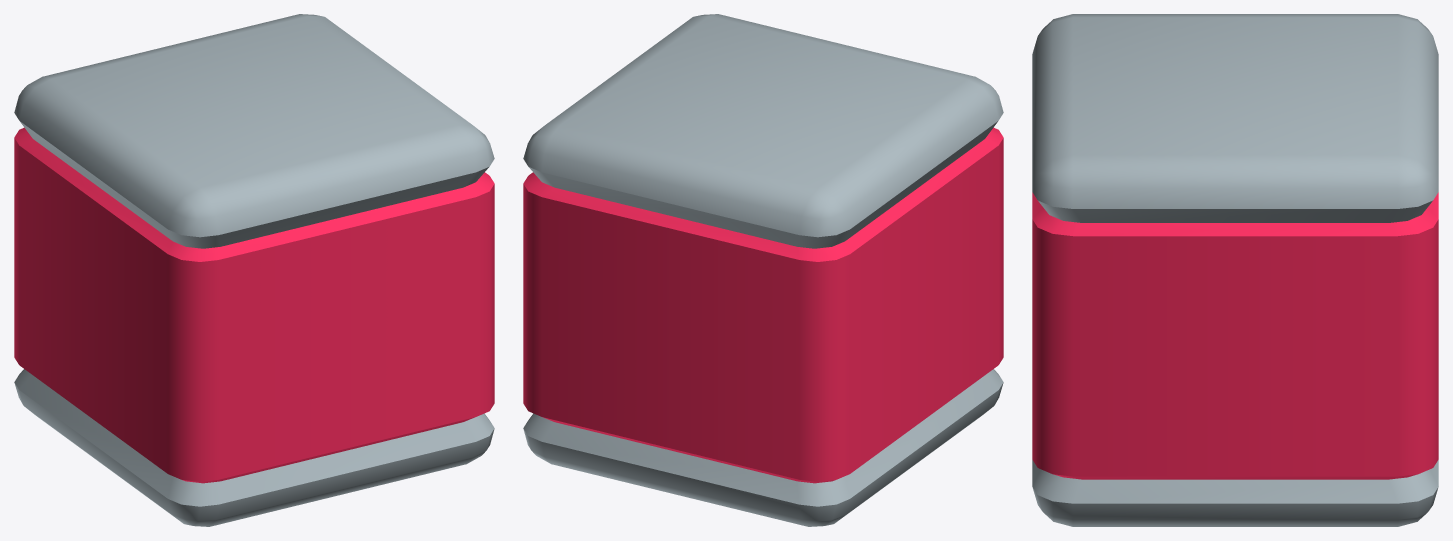
File: powerupBlock_teamRed-col.glb
The picture shows the model from 3 angles, left to right: view 1: azimuth 30°, elevation 25°; view 2: azimuth 150°, elevation 25°; view 3: azimuth 270°, elevation 25°; orthographic projection. The views are drawn at different scales.
Parts seen in each view (by area): view 1: powerupBlock_teamRed-col; view 2: powerupBlock_teamRed-col; view 3: powerupBlock_teamRed-col.
Part boxes in pixels (x1,y1,x2,y2): powerupBlock_teamRed-col: (14,14,494,526); powerupBlock_teamRed-col: (523,14,1003,526); powerupBlock_teamRed-col: (1032,14,1438,526).
Size of the model in its own units: 1 by 1 by 1.
